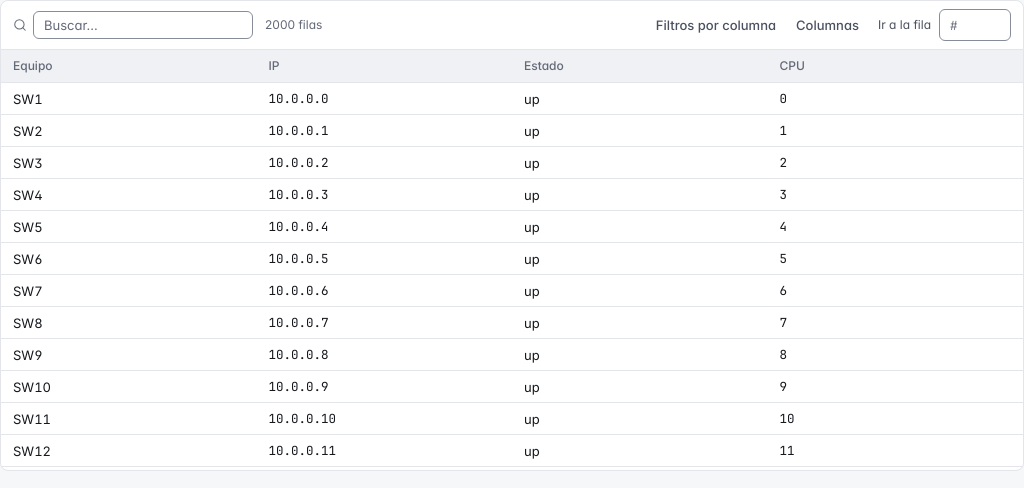
con miles de filas virtualiza e ir a la fila la muestra
Type "1500" into the number field labelled "Ir a la fila". click: (975, 25)
box: x1=939 y1=9 x2=1011 y2=41
Then press Enter
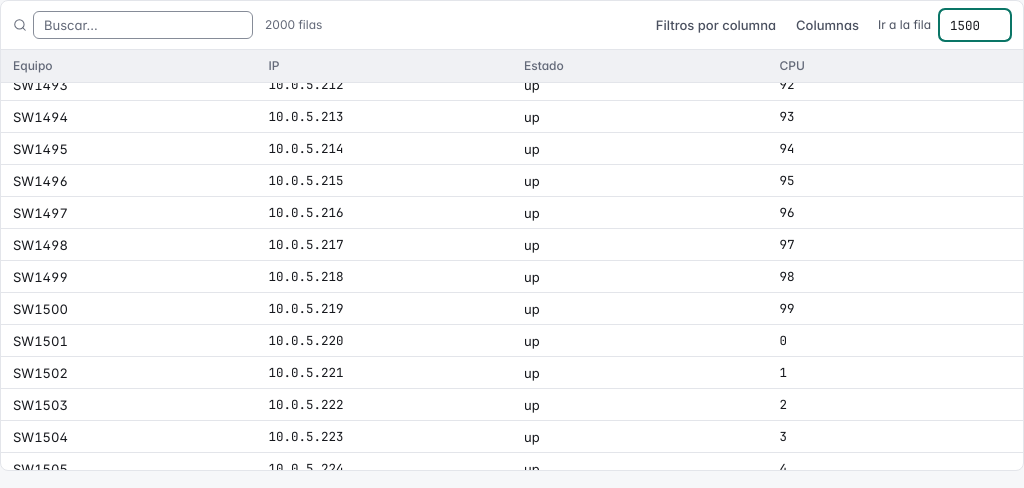
Now the row "SW1500 10.0.5.219 up 99" is shown, box x1=1 y1=293 x2=1023 y2=325
